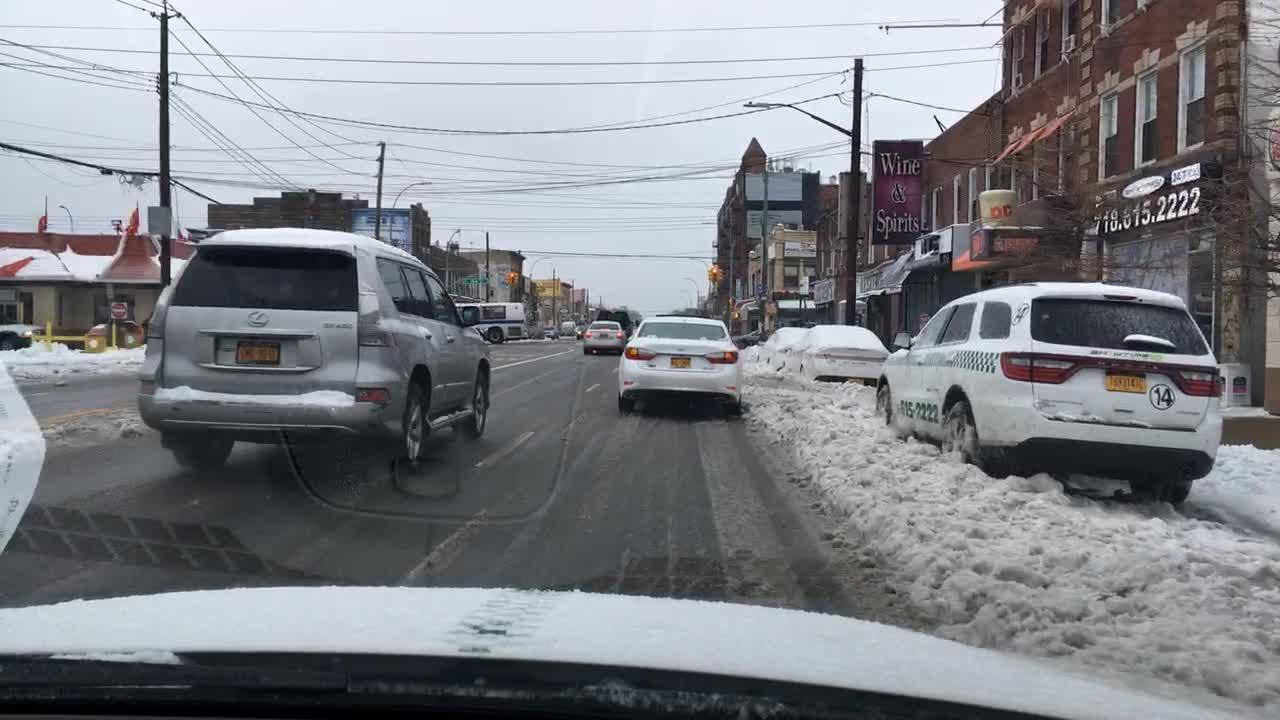lexus: (243, 307, 273, 333)
